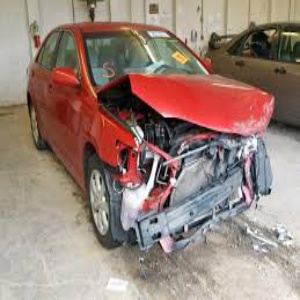bonnet: (121, 70, 276, 139)
bumper: (124, 166, 255, 247)
